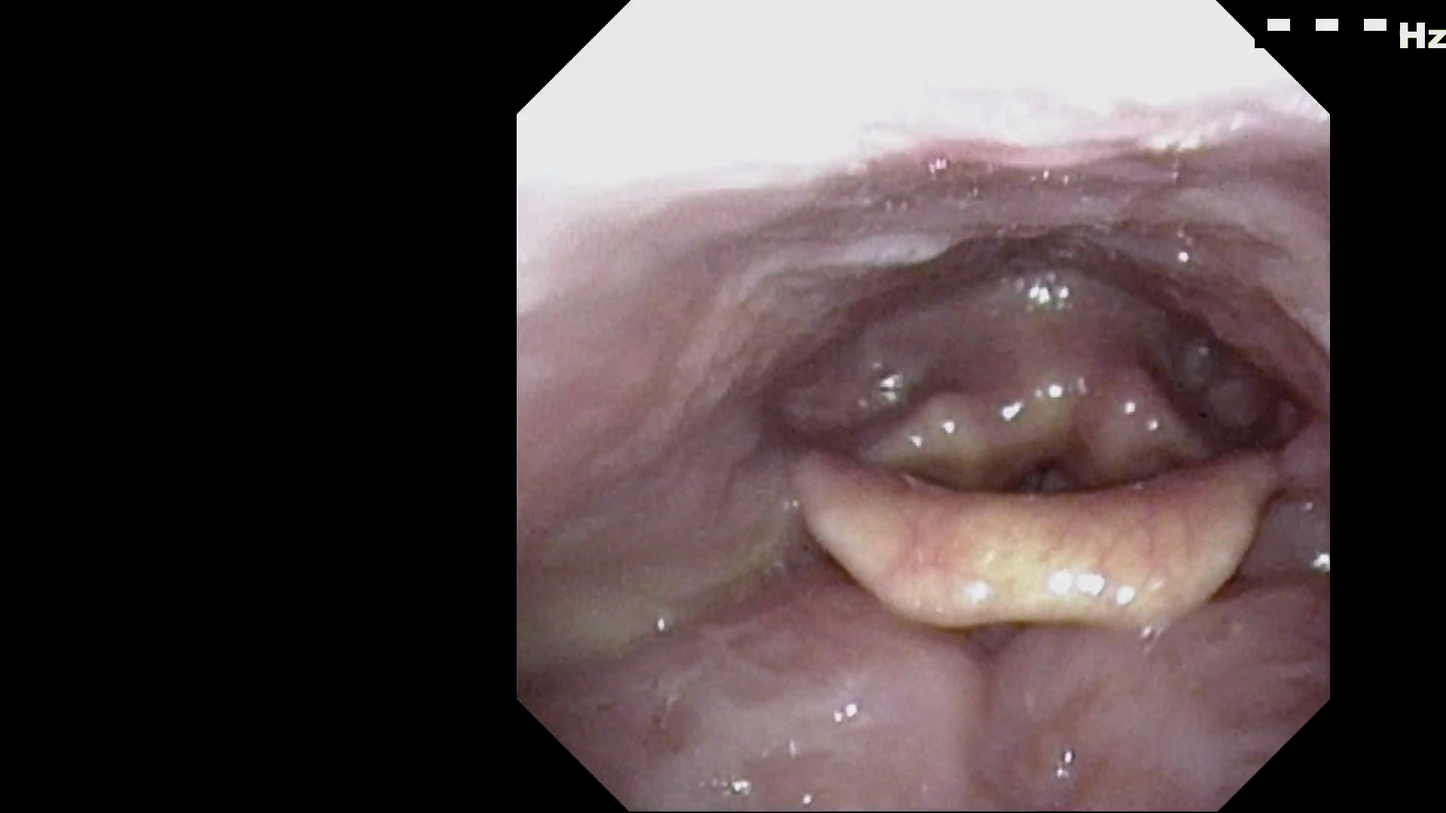epiglottis: (781, 424, 1306, 664)
trachea: (971, 394, 1118, 549)
